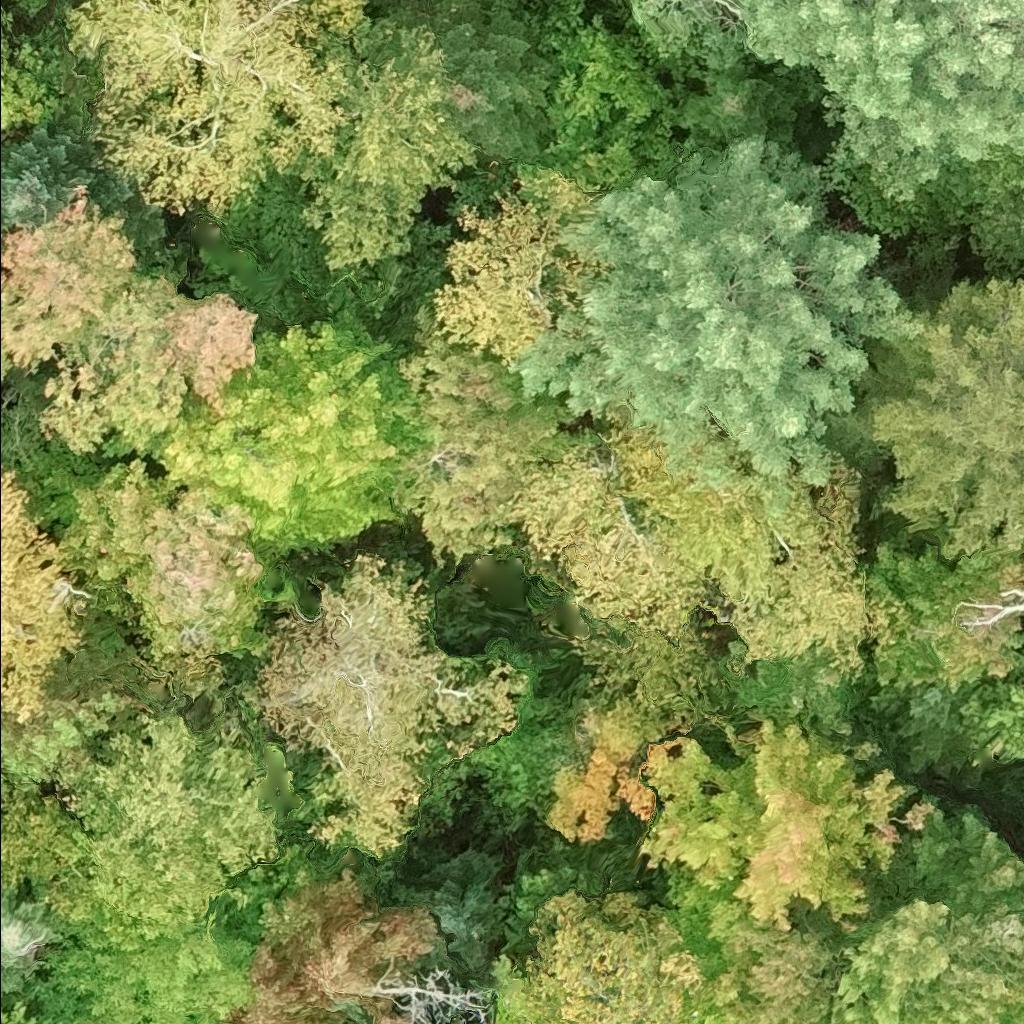crown: (504, 136, 927, 489), (495, 410, 872, 671), (540, 699, 938, 931), (238, 549, 532, 855), (629, 0, 1023, 206), (62, 0, 368, 236), (149, 306, 438, 540), (47, 705, 282, 953), (827, 276, 1023, 558), (33, 458, 265, 686), (398, 304, 601, 564), (300, 8, 482, 271), (830, 805, 1023, 1023), (37, 272, 259, 455), (221, 848, 446, 1023), (435, 183, 593, 361), (666, 868, 845, 1023), (0, 182, 138, 382), (513, 887, 708, 1023), (0, 103, 166, 258), (412, 0, 560, 158), (0, 462, 85, 727), (393, 844, 510, 980), (677, 56, 802, 157), (0, 779, 86, 900), (0, 1, 57, 134), (882, 683, 967, 772), (0, 888, 61, 1011), (0, 998, 38, 1023), (0, 0, 49, 15), (1008, 979, 1023, 1006), (509, 1020, 519, 1023), (71, 1022, 75, 1023)
